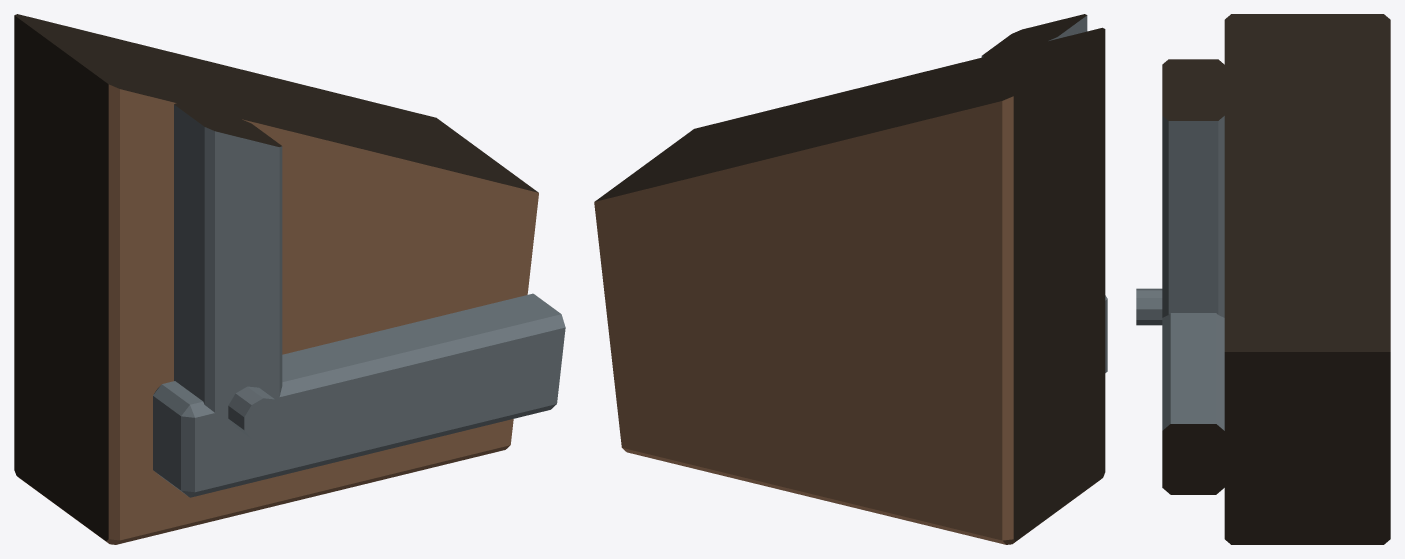
The model's file is SM_DoorShard_02_34.fbx.
The picture shows the model from 3 angles, left to right: view 1: azimuth 30°, elevation 25°; view 2: azimuth 150°, elevation 25°; view 3: azimuth 270°, elevation 25°; orthographic projection. The views are drawn at different scales.
Parts seen in each view (by area): view 1: SM_DoorShard_02_34; view 2: SM_DoorShard_02_34; view 3: SM_DoorShard_02_34.
Boxes of the visible parts, bbox=[...] form: SM_DoorShard_02_34: bbox=[14, 14, 565, 544]; SM_DoorShard_02_34: bbox=[594, 14, 1107, 544]; SM_DoorShard_02_34: bbox=[1136, 14, 1390, 544].
Bounding box in the file's own units: 38.38 × 24.5 × 39.79.
